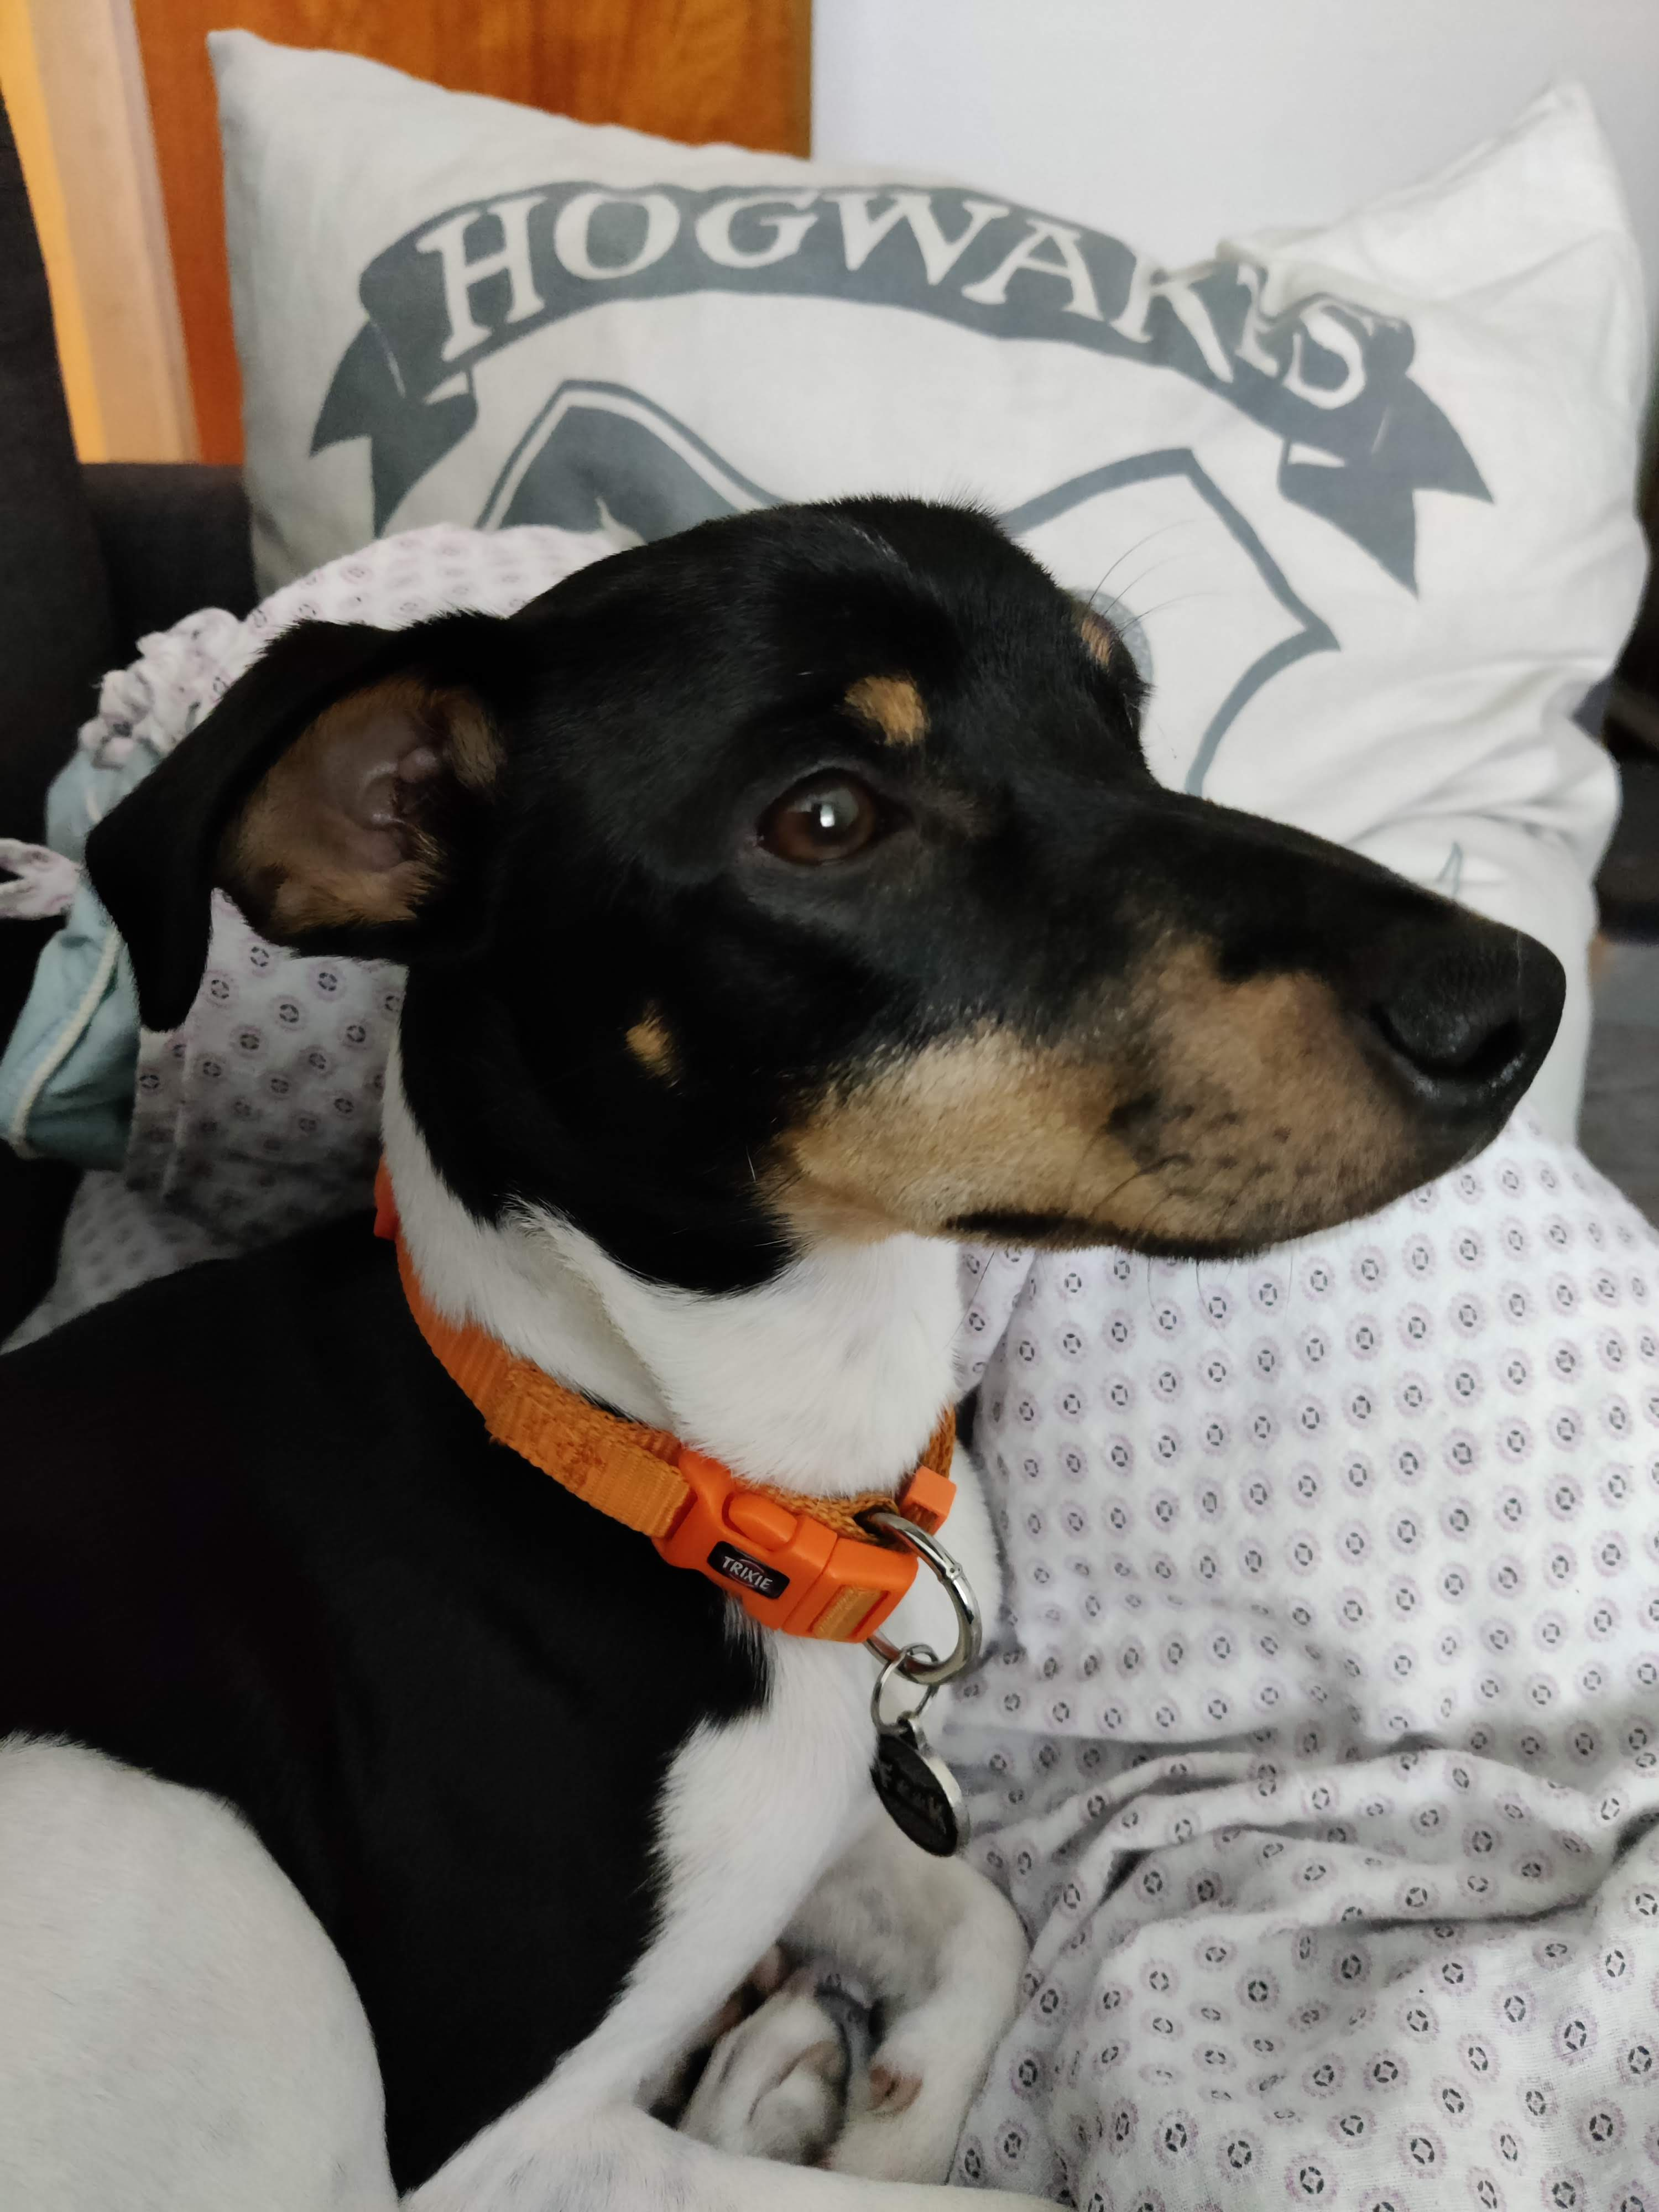Dog: (0, 482, 1581, 2212)
